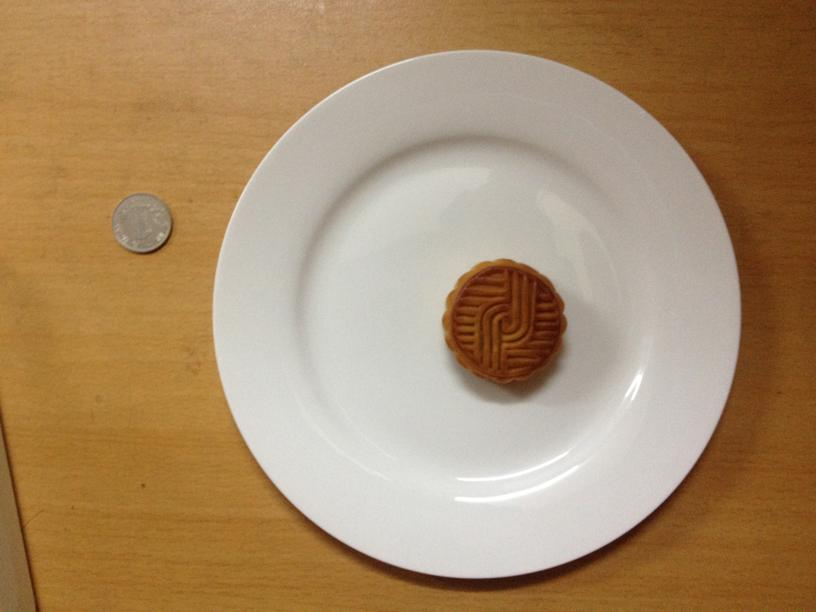coin: (109, 193, 172, 254)
mooncake: (442, 257, 566, 382)
